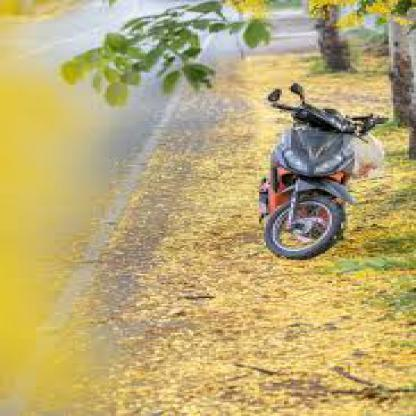Motorcycle: (251, 83, 385, 266)
